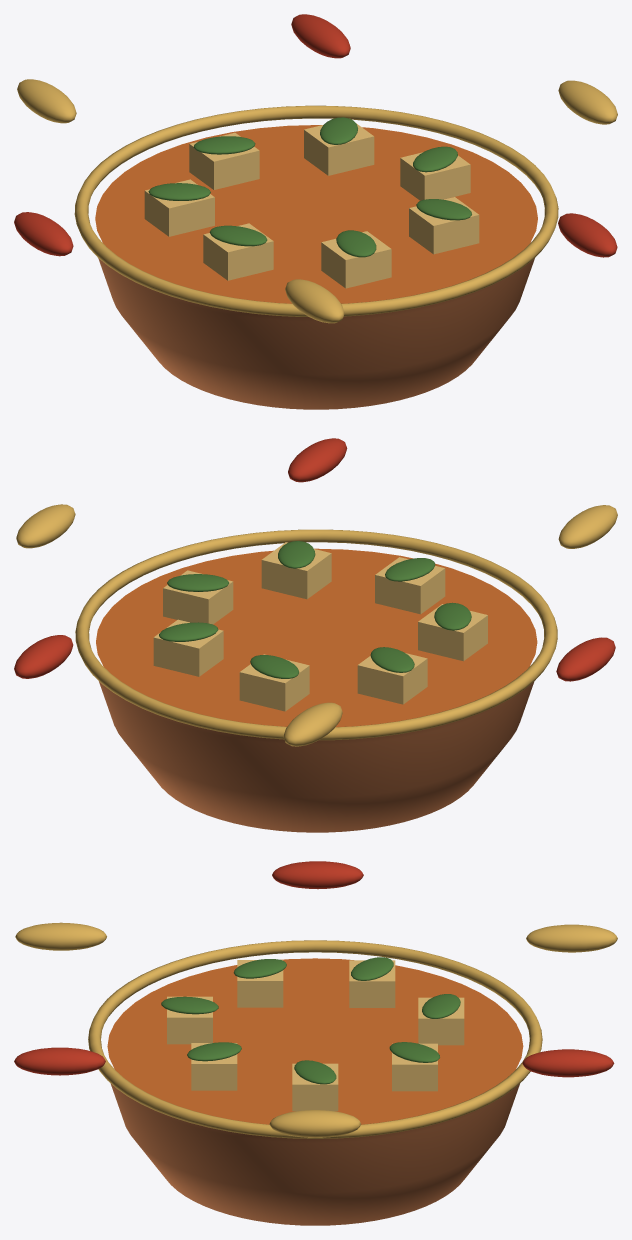
File: food.glb
3 renders of one model, top to bottom at view 1: azimuth 30°, elevation 25°; view 2: azimuth 150°, elevation 25°; view 3: azimuth 270°, elevation 25°, orthographic. The views are drawn at different scales.
Parts seen in each view (by area): view 1: Base, Vessel, Protein, object 17, Herb leaf (×7), Spice-2, Spice-4, Spice-5, Spice-1, Spice-0, Spice-3; view 2: Base, Vessel, Protein, object 17, Herb leaf (×7), Spice-0, Spice-4, Spice-3, Spice-1, Spice-2, Spice-5; view 3: Base, Vessel, object 17, Protein, Herb leaf (×7), Spice-1, Spice-4, Spice-5, Spice-0, Spice-3, Spice-2.
Boxes of the visible parts, x1,y1,x2,y2 form: Base: (95,125,537,303); Vessel: (98,258,534,409); Protein: (144,123,479,288); object 17: (74,105,558,316); Herb leaf (×7): (148,117,471,257); Spice-2: (285,279,344,323); Spice-4: (17,79,76,123); Spice-5: (291,14,350,58); Spice-1: (558,213,617,257); Spice-0: (558,80,617,124); Spice-3: (14,212,73,256); Base: (96,548,537,727); Vessel: (99,681,533,832); Protein: (153,542,487,711); object 17: (75,529,557,740); Herb leaf (×7): (159,541,471,678); Spice-0: (16,504,75,548); Spice-4: (283,702,342,746); Spice-3: (556,637,615,681); Spice-1: (288,438,347,482); Spice-2: (558,505,617,548); Spice-5: (14,635,73,678); Base: (107,958,523,1124); Vessel: (110,1083,519,1225); object 17: (88,940,542,1138); Protein: (167,960,464,1111); Herb leaf (×7): (161,957,460,1084); Spice-1: (14,1047,105,1075); Spice-4: (526,924,617,952); Spice-5: (522,1049,614,1077); Spice-0: (269,1110,360,1137); Spice-3: (272,861,363,889); Spice-2: (15,922,106,950).
Size of the model in its own units: 3.4 by 1.14 by 3.28.
